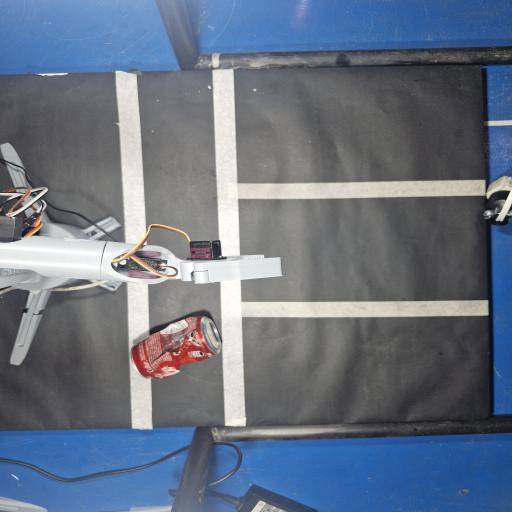lata_defectuoso: (131, 316, 221, 378)
